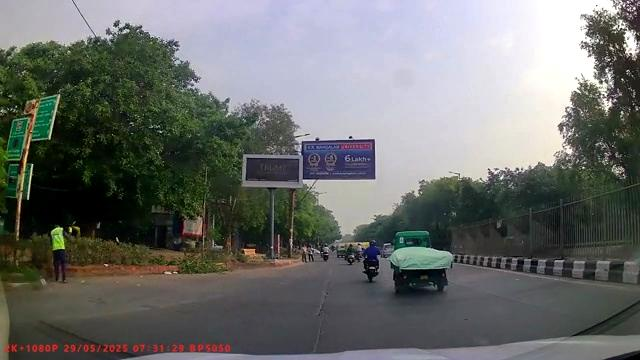motorcycle_with_helmet: (362, 239, 382, 283)
